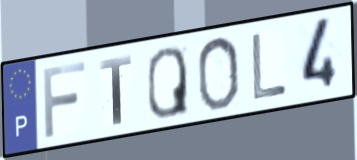4: (297, 14, 343, 96)
F: (40, 59, 88, 141)
L: (250, 31, 290, 103)
O: (195, 33, 241, 113)
Q: (146, 44, 191, 121)
T: (98, 53, 133, 128)
